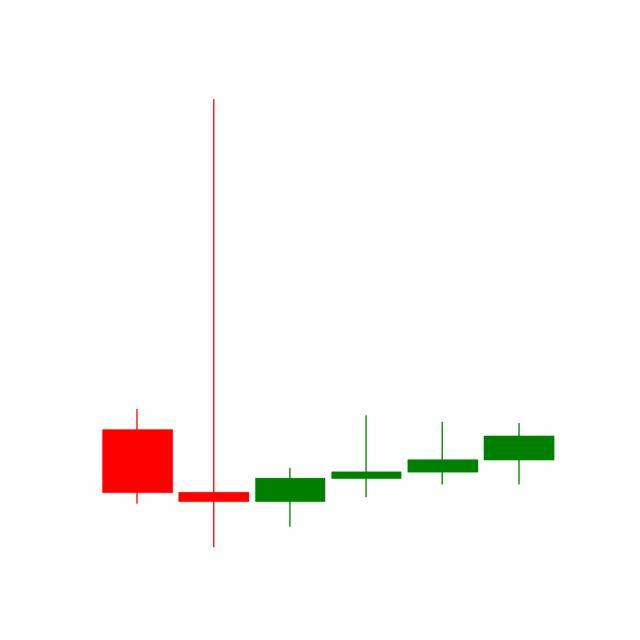Spinning Top: (404, 421, 482, 487)
